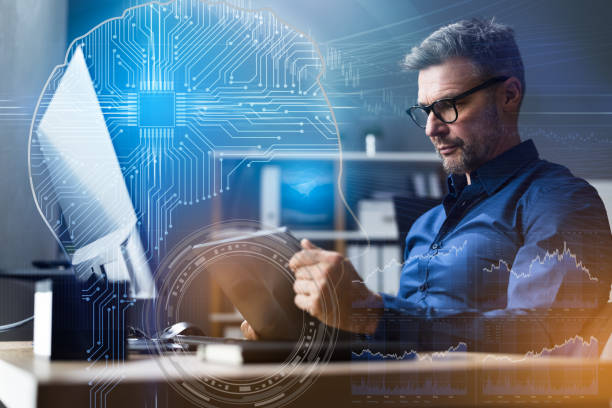without mask: (404, 18, 532, 177)
